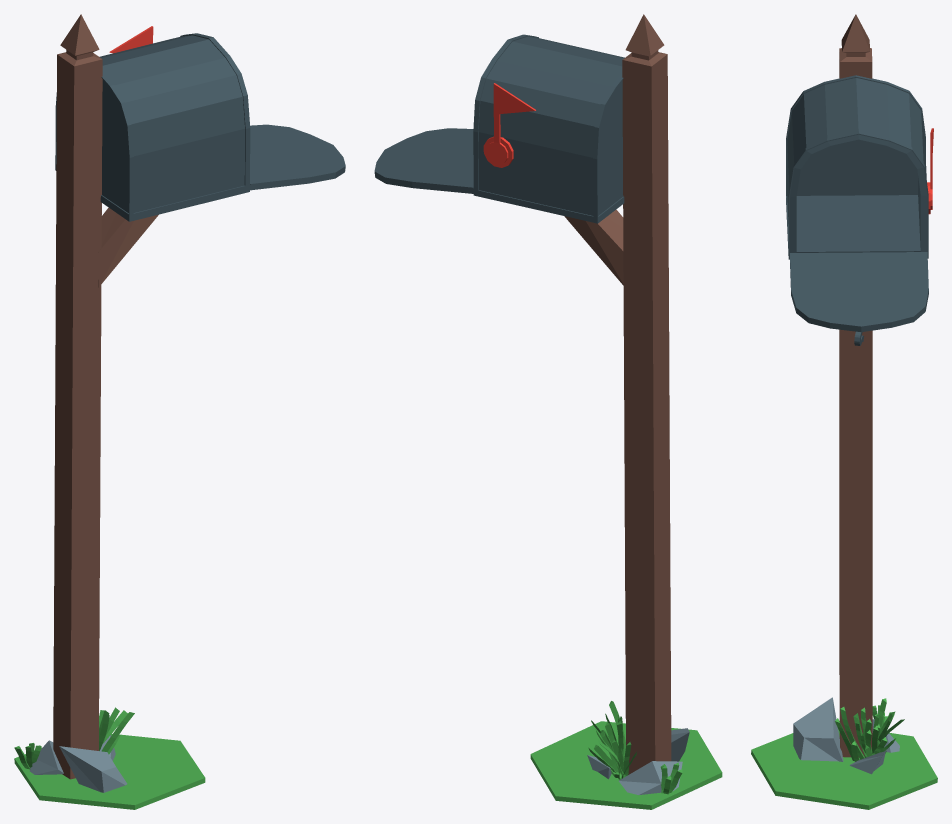
File: mailbox.fbx
3 views of the same model, side by side, from view 1: azimuth 30°, elevation 25°; view 2: azimuth 150°, elevation 25°; view 3: azimuth 270°, elevation 25° (orthographic). The views are drawn at different scales.
Parts seen in each view (by area): view 1: mesh_1018199070, mesh_2028911354, mesh_2098010904, mesh_513383197, mesh_804677075, mesh_961800690, mesh_2114715230; view 2: mesh_1018199070, mesh_2028911354, mesh_2098010904, mesh_513383197, mesh_804677075, mesh_62313567, mesh_2114715230; view 3: mesh_2028911354, mesh_1018199070, mesh_513383197, mesh_2098010904, mesh_961800690, mesh_1855928084.
Part boxes in pixels (box(x1,y1,x2,y2)): mesh_1018199070: box(53, 14, 102, 779); mesh_2028911354: box(55, 33, 250, 221); mesh_2098010904: box(14, 734, 205, 809); mesh_513383197: box(250, 124, 345, 190); mesh_804677075: box(98, 207, 158, 287); mesh_961800690: box(59, 746, 127, 792); mesh_2114715230: box(30, 740, 63, 774); mesh_1018199070: box(622, 14, 671, 774); mesh_2028911354: box(473, 34, 624, 223); mesh_2098010904: box(530, 721, 722, 809); mesh_513383197: box(374, 128, 473, 193); mesh_804677075: box(564, 209, 623, 285); mesh_62313567: box(483, 83, 535, 167); mesh_2114715230: box(619, 761, 682, 795); mesh_2028911354: box(786, 75, 928, 259); mesh_1018199070: box(839, 14, 872, 757); mesh_513383197: box(789, 252, 928, 332); mesh_2098010904: box(751, 729, 937, 809); mesh_961800690: box(793, 697, 843, 761); mesh_1855928084: box(849, 750, 885, 774).
Size of the model in its own units: 278 by 635 by 144.
